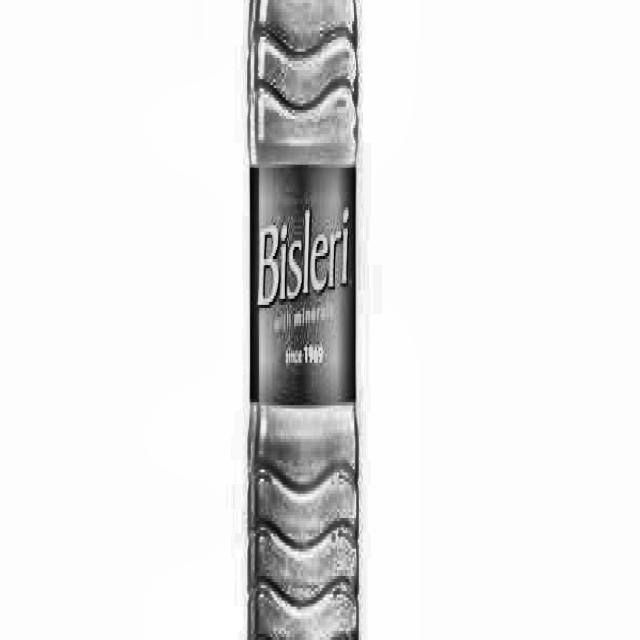bottle: (244, 0, 363, 640)
